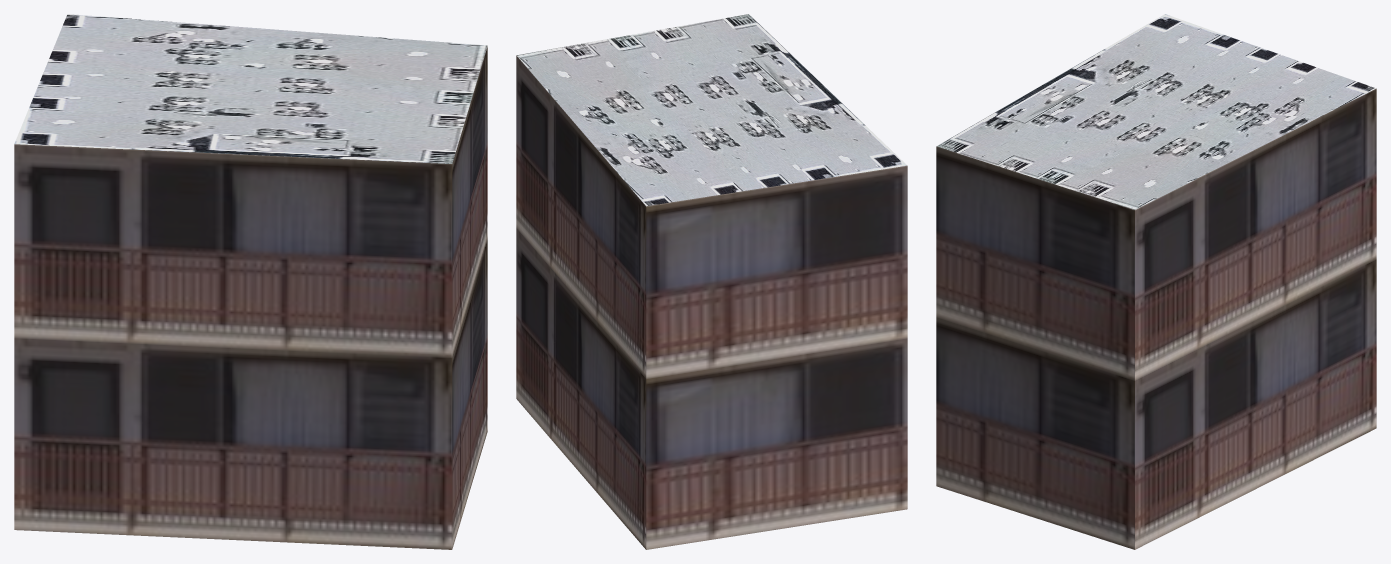
Rendered from ResTex__320.fbx.
3 views of the same model, side by side, from view 1: azimuth 30°, elevation 25°; view 2: azimuth 150°, elevation 25°; view 3: azimuth 270°, elevation 25° (orthographic). The views are drawn at different scales.
Visible parts, largest first — view 1: CityEngineMaterial_6_m, CityEngineMaterial_8_m; view 2: CityEngineMaterial_6_m, CityEngineMaterial_8_m; view 3: CityEngineMaterial_6_m, CityEngineMaterial_8_m.
Boxes of the visible parts, box(x1,y1,x2,y2) form: CityEngineMaterial_6_m: box(14, 46, 487, 549); CityEngineMaterial_8_m: box(14, 14, 487, 163); CityEngineMaterial_6_m: box(516, 55, 907, 549); CityEngineMaterial_8_m: box(517, 14, 906, 206); CityEngineMaterial_6_m: box(936, 88, 1376, 549); CityEngineMaterial_8_m: box(936, 14, 1376, 209).
Bounding box in the file's own units: 7.43 × 6 × 7.05.
2 materials, 2 textured.
